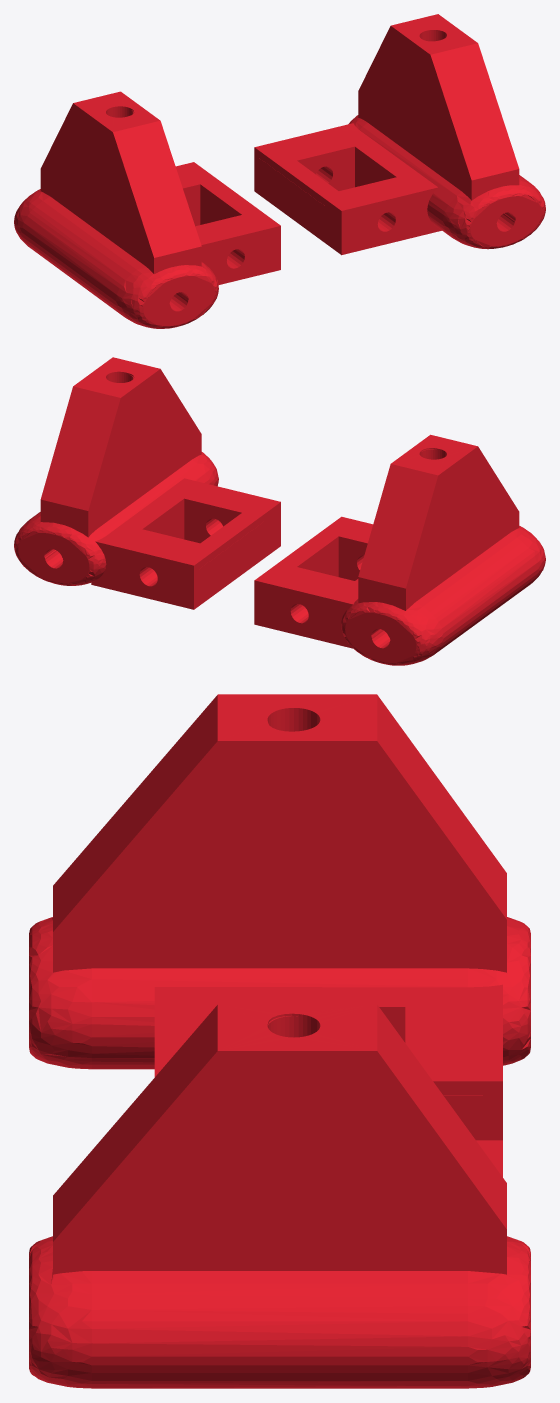
File: tinker.obj
The picture shows the model from 3 angles, top to bottom: view 1: azimuth 30°, elevation 25°; view 2: azimuth 150°, elevation 25°; view 3: azimuth 270°, elevation 25°; orthographic projection. The views are drawn at different scales.
Parts seen in each view (by area): view 1: obj_0; view 2: obj_0; view 3: obj_0.
Boxes of the visible parts, x1,y1,x2,y2 form: obj_0: (14, 14, 545, 328); obj_0: (14, 357, 545, 665); obj_0: (29, 694, 530, 1388).
Bounding box in the file's own units: 69.98 × 27 × 36.
